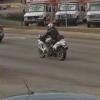Motorcycle: (28, 24, 79, 64)
